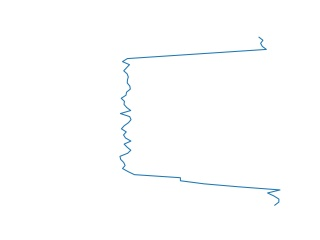distributaryChannelFill: (113, 34, 287, 207)
